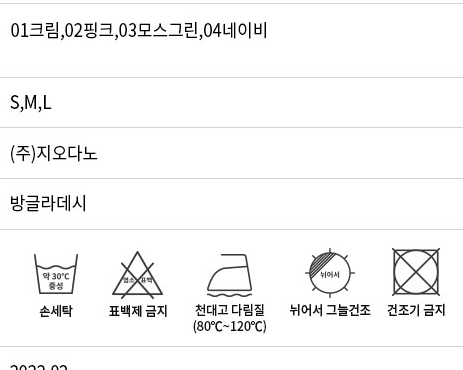KR_flat_dry_in_shade: (303, 246, 356, 300)
KR_hand_wash_30_neutral: (29, 249, 83, 299)
KR_no_chlorine_bleach: (105, 247, 168, 303)
KR_no_tumble_dry: (388, 243, 445, 299)
